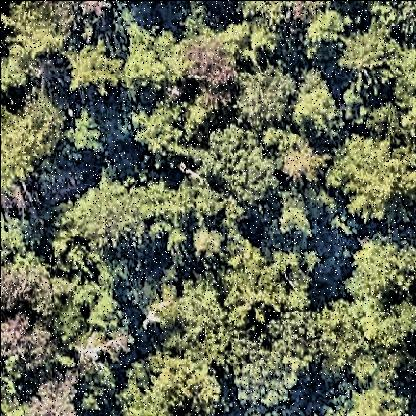tree-top: (317, 135, 416, 231), (340, 239, 416, 354), (195, 121, 283, 213), (218, 244, 313, 326), (259, 304, 364, 378), (2, 89, 69, 201), (118, 354, 230, 416), (60, 181, 146, 261), (152, 275, 228, 359), (2, 255, 56, 372), (232, 341, 305, 411), (114, 22, 188, 91), (230, 62, 301, 132), (290, 62, 342, 147), (60, 33, 126, 97), (334, 31, 404, 91), (1, 1, 66, 63), (219, 13, 286, 73), (124, 96, 187, 156), (61, 282, 127, 338), (351, 338, 416, 390), (183, 37, 240, 94), (141, 177, 192, 239), (62, 105, 115, 163), (295, 7, 352, 55), (328, 387, 416, 416), (270, 199, 322, 245), (361, 1, 416, 43), (381, 38, 416, 102), (25, 377, 82, 416), (283, 144, 319, 187), (190, 224, 226, 266)
